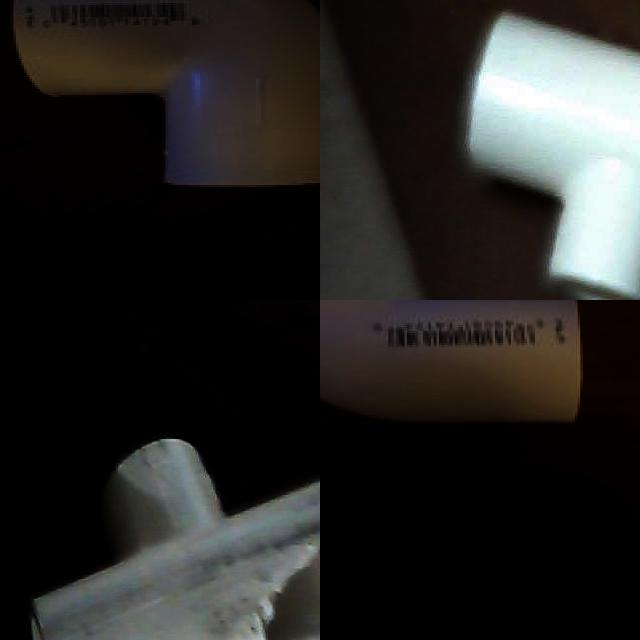Defective: (238, 507, 320, 640)
L Joint: (10, 0, 320, 191), (320, 300, 584, 426)
T Joint: (24, 438, 320, 640), (458, 12, 640, 300)
